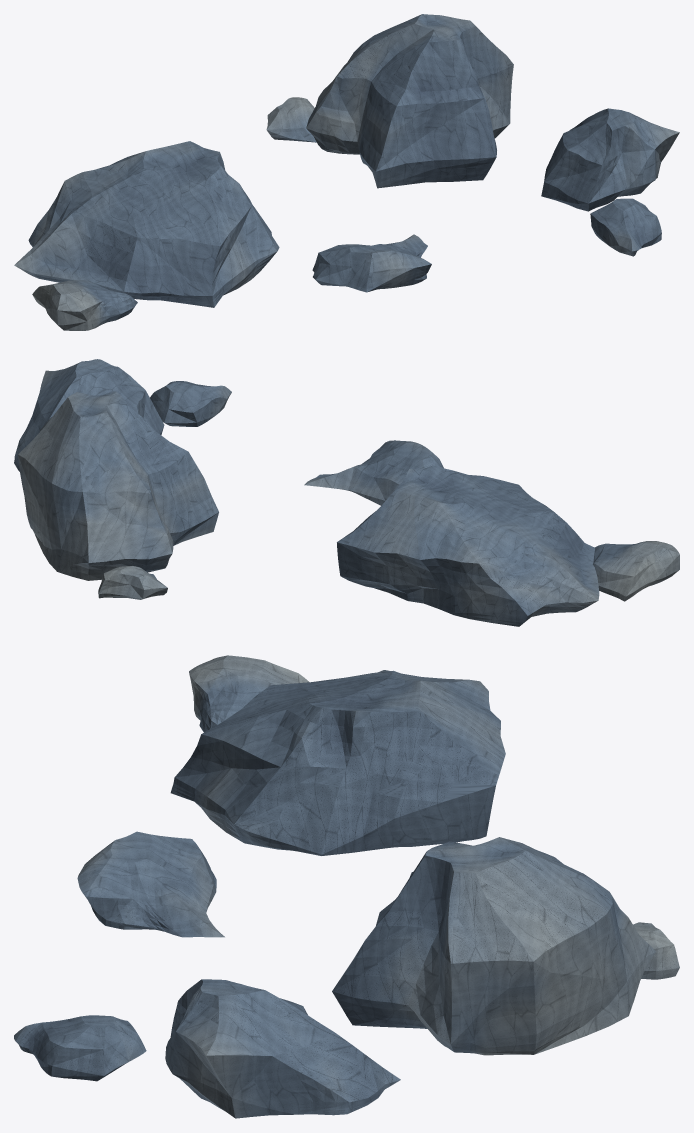
The picture shows the model from 3 angles, top to bottom: view 1: azimuth 30°, elevation 25°; view 2: azimuth 150°, elevation 25°; view 3: azimuth 270°, elevation 25°; orthographic projection. The views are drawn at different scales.
Visible parts, largest first — view 1: F18_stone; view 2: F18_stone; view 3: F18_stone.
Boxes of the visible parts, bbox=[...] form: F18_stone: bbox=[14, 14, 679, 330]; F18_stone: bbox=[14, 359, 679, 626]; F18_stone: bbox=[14, 655, 679, 1118].
Bounding box in the file's own units: 2.68 × 0.5086 × 1.74.
Materials: 1 (1 with a texture image).
